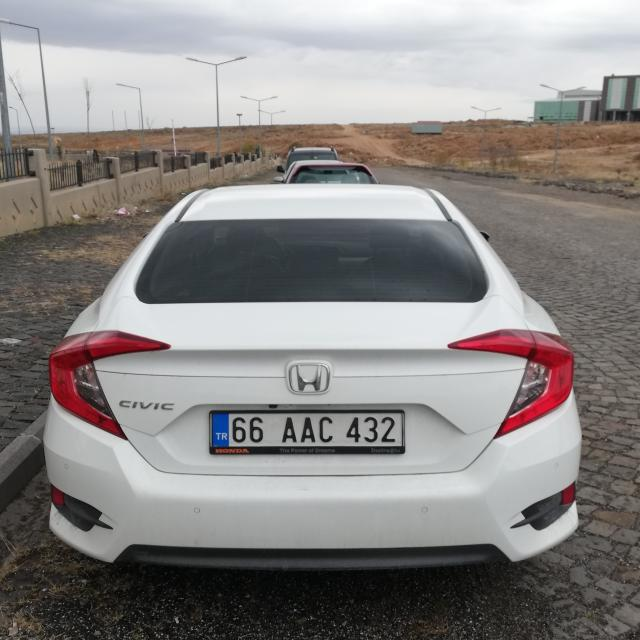license_plate: (209, 411, 407, 450)
